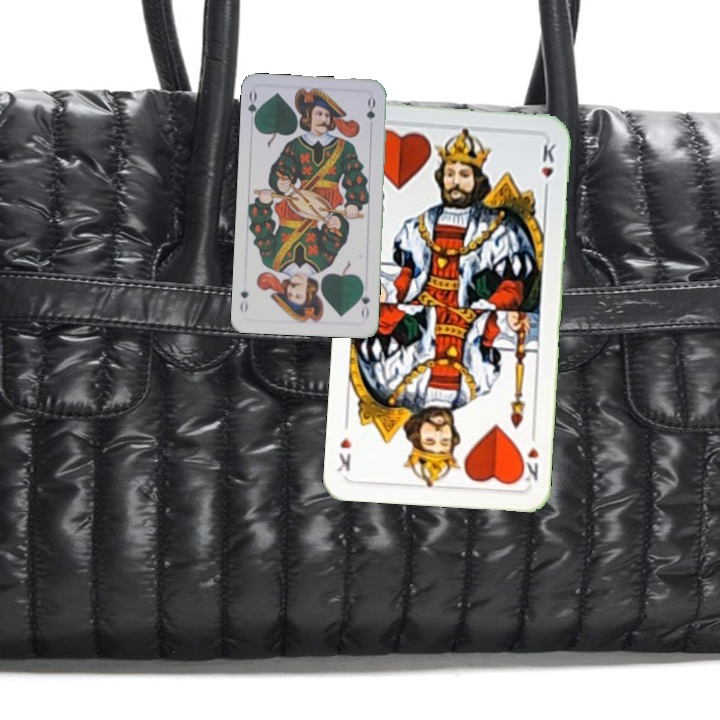GO: (244, 88, 263, 128), (355, 282, 372, 322)
HK: (516, 427, 542, 484)
